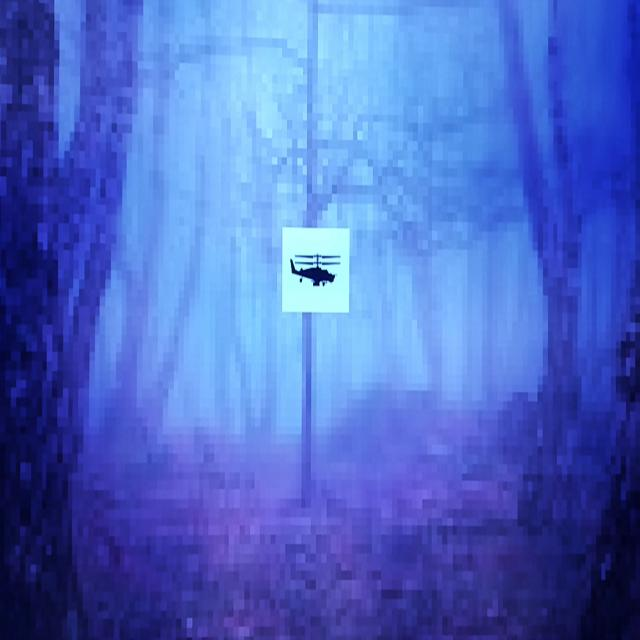Ka-52 Enemy: (290, 255, 340, 286)
